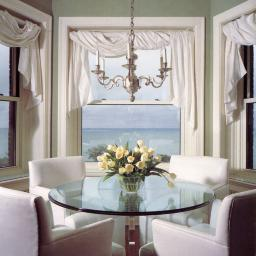Ventana: (64, 24, 191, 154), (0, 24, 47, 183), (216, 23, 253, 183)
